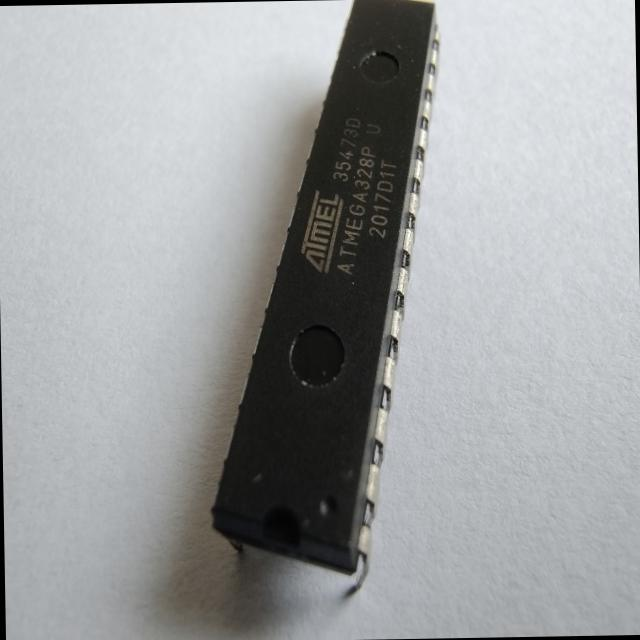atmega: (199, 0, 452, 596)
